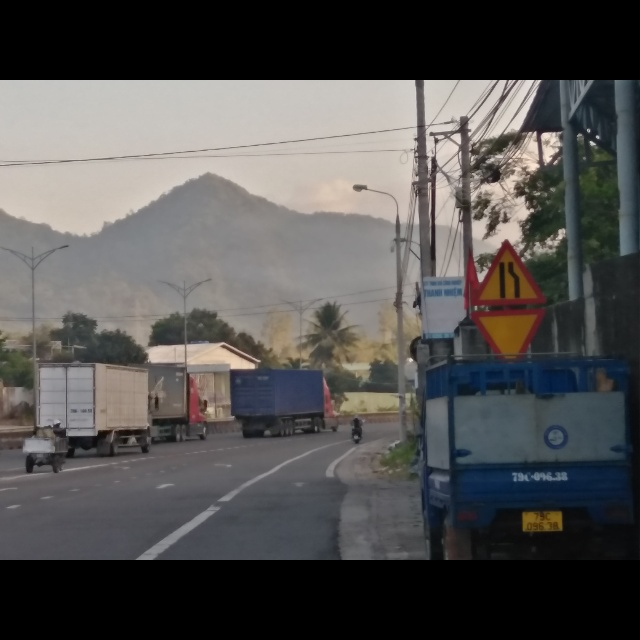Giao nhau với đường ưu tiên: (469, 308, 545, 357)
Đường bị hẹp bên phải: (469, 239, 546, 305)
